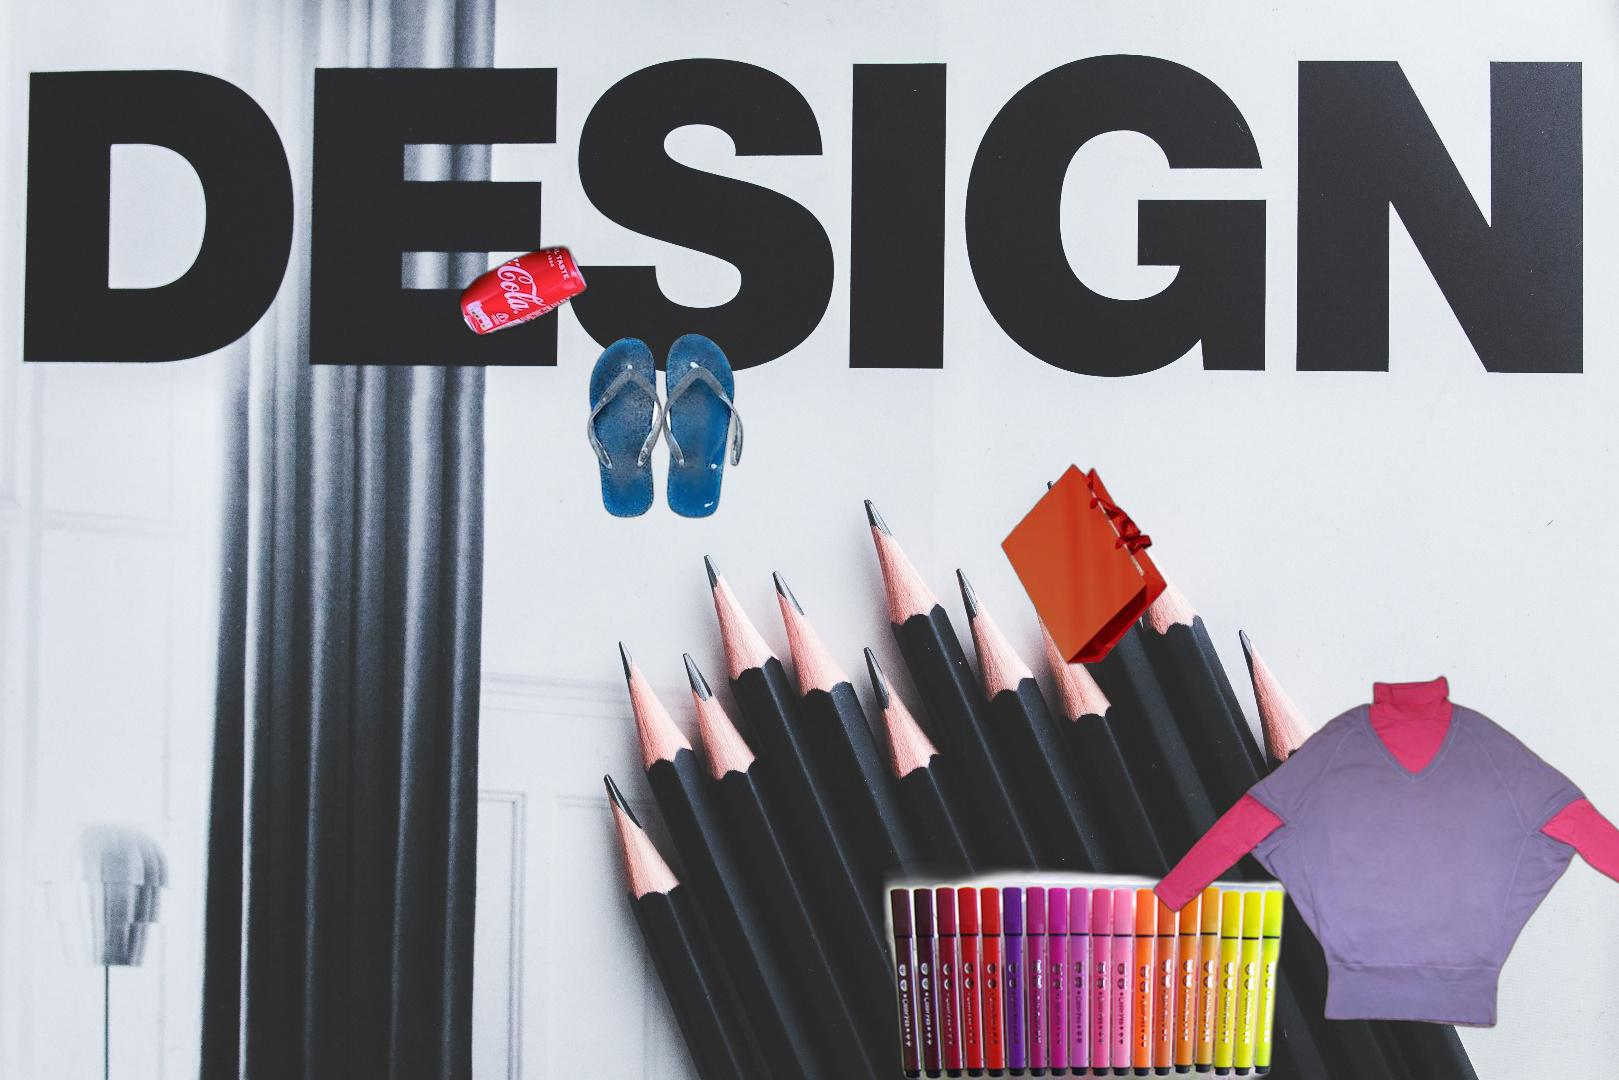clothes: (1149, 673, 1619, 1032)
metal-cans: (456, 240, 592, 342)
paper-bag: (998, 462, 1169, 667)
penholder: (729, 858, 1334, 1080)
shoes: (585, 331, 746, 521)
